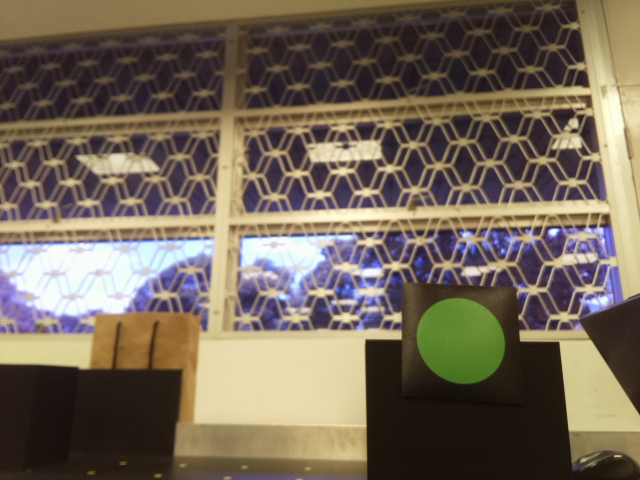go: (414, 289, 511, 397)
